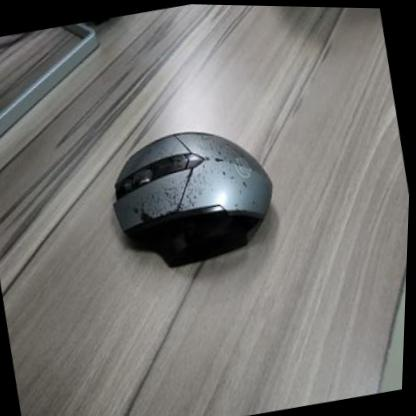mouserotation: (100, 111, 290, 277)
